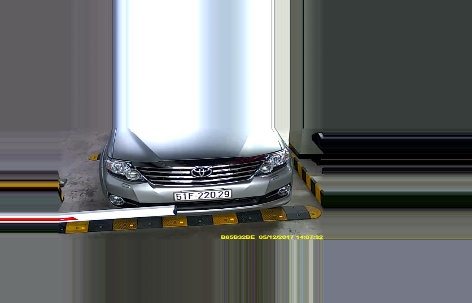plate: (173, 187, 230, 200)
